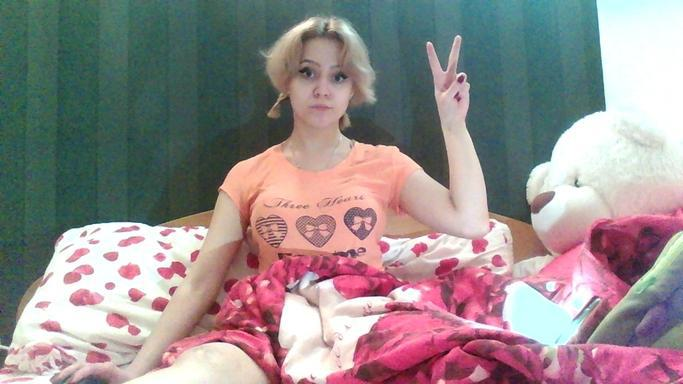peace: (424, 34, 476, 122)
